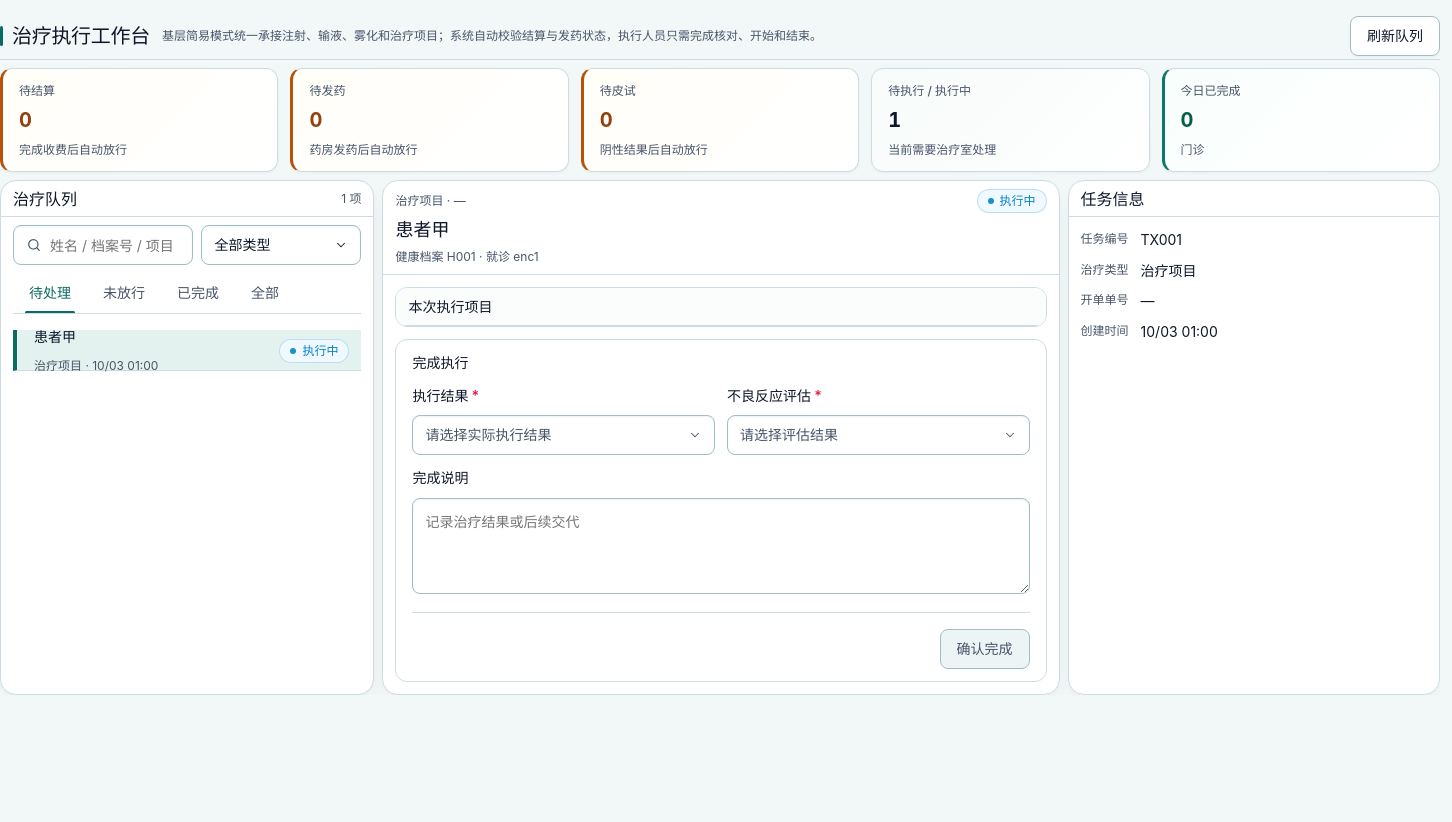
Test: explicit treatment assessment › blocks stale tasks after a queue refresh fails
Expected: the heading "完成执行" is shown, [412,354,468,371]
Click the dropdown labelled "请选择实际执行结果" at coordinates (488, 435), box [412,415,715,455]
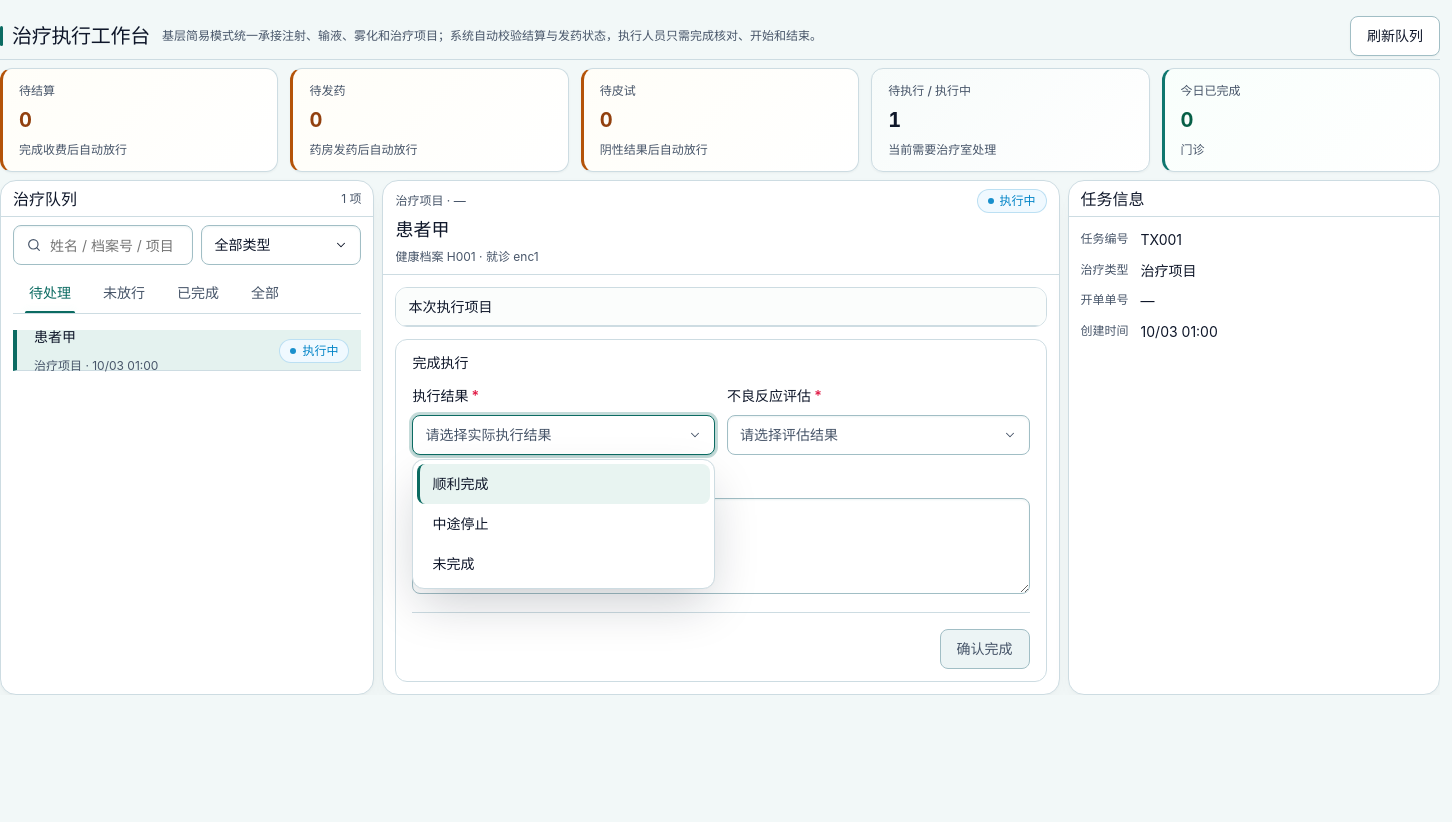
Click the option "顺利完成" at coordinates (460, 484), box [417,464,710,504]
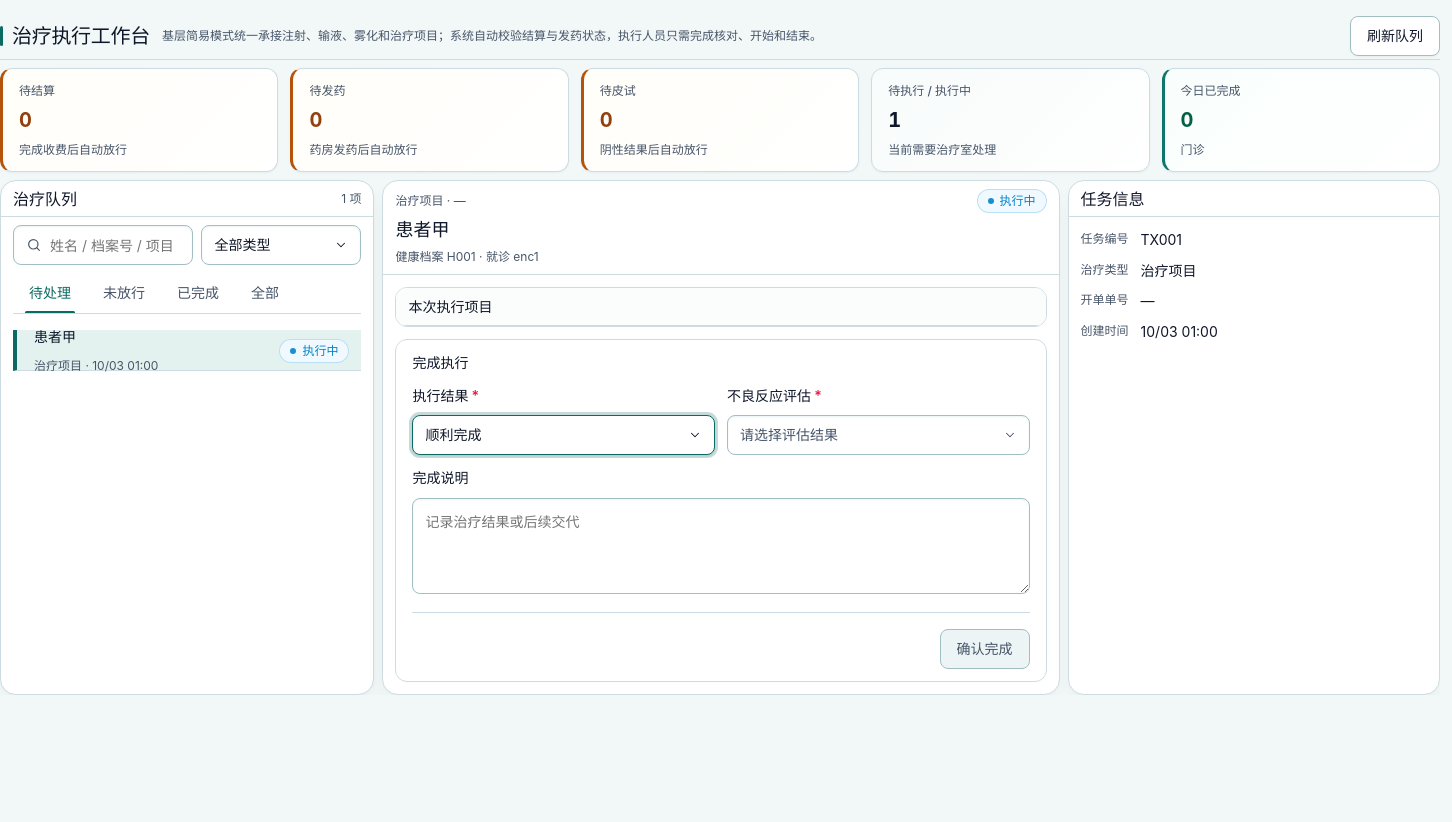
Click the dropdown named "不良反应评估" at coordinates (789, 435), box [727,415,1030,455]
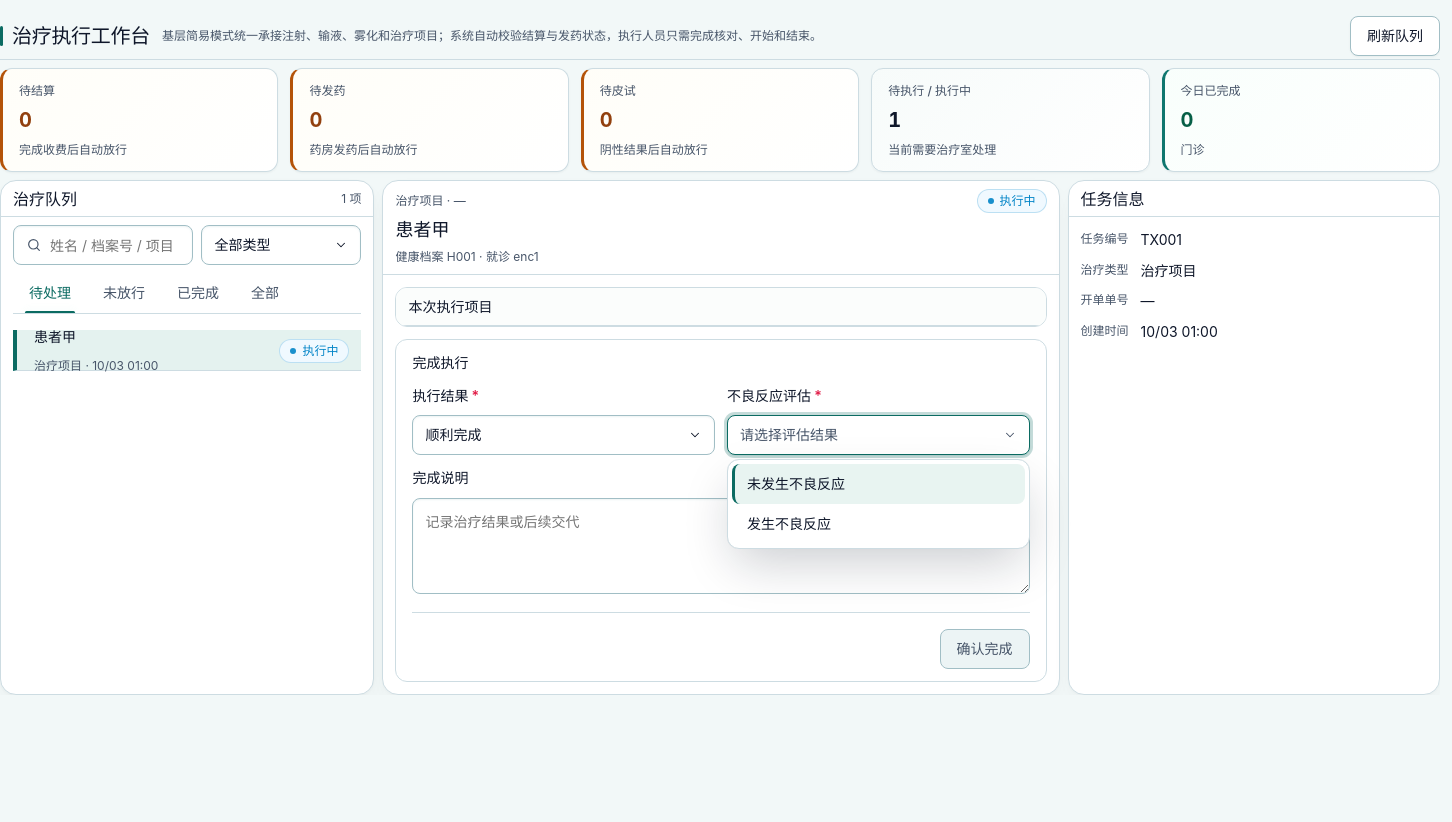
Click the option "未发生不良反应" at coordinates (796, 484), box [732,464,1025,504]
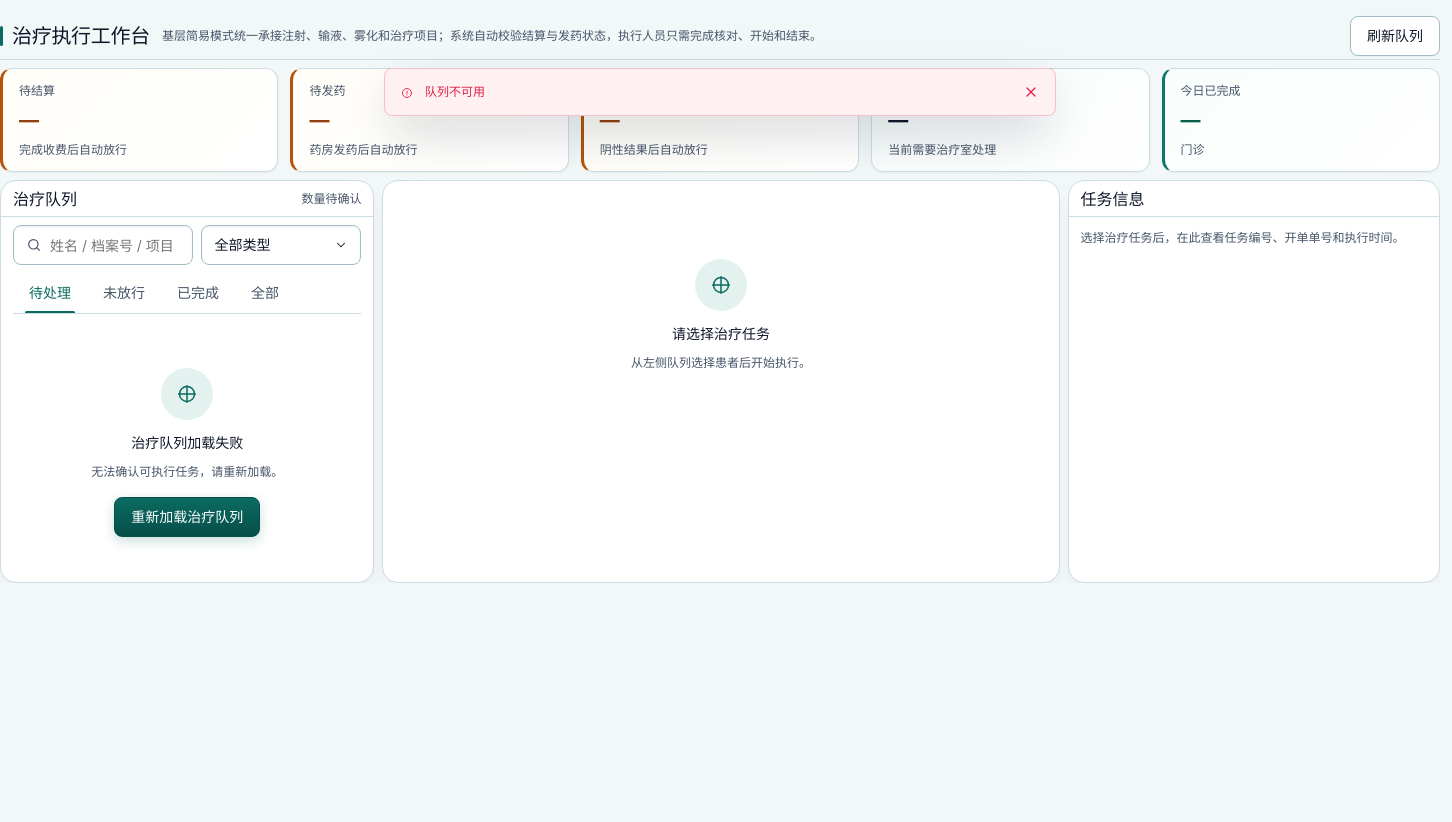
Now the text "治疗队列加载失败" is shown, box [131,432,243,454]
Now the button "确认完成" is gone
Now the text "—" is shown 5 times, box [19,108,39,132]; [309,108,329,132]; [600,108,620,132]; [888,108,908,132]; [1181,108,1201,132]
